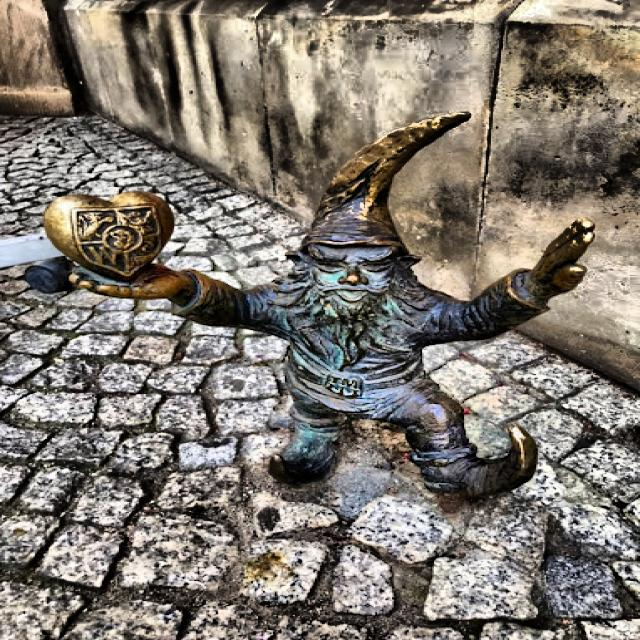WrocLovek: (35, 101, 601, 515)
